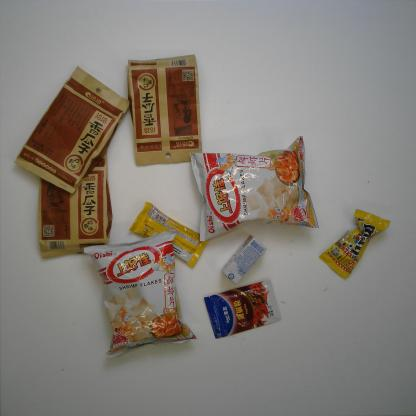Chocolate: (127, 200, 210, 271), (318, 208, 393, 280)
Dried Food: (13, 65, 132, 197), (35, 144, 114, 263), (126, 52, 205, 168)
Milk: (219, 232, 268, 285)
Puffed Food: (81, 231, 200, 363), (187, 135, 320, 245)
Seasoner: (202, 278, 286, 342)
